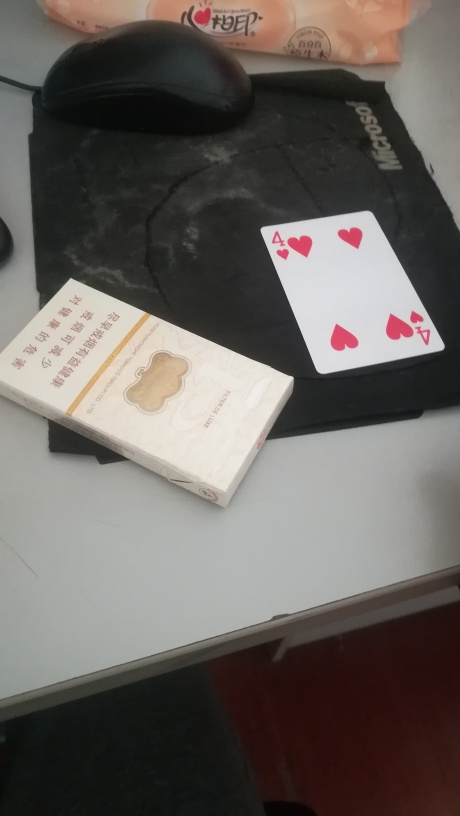hx 4: (261, 205, 456, 378)
